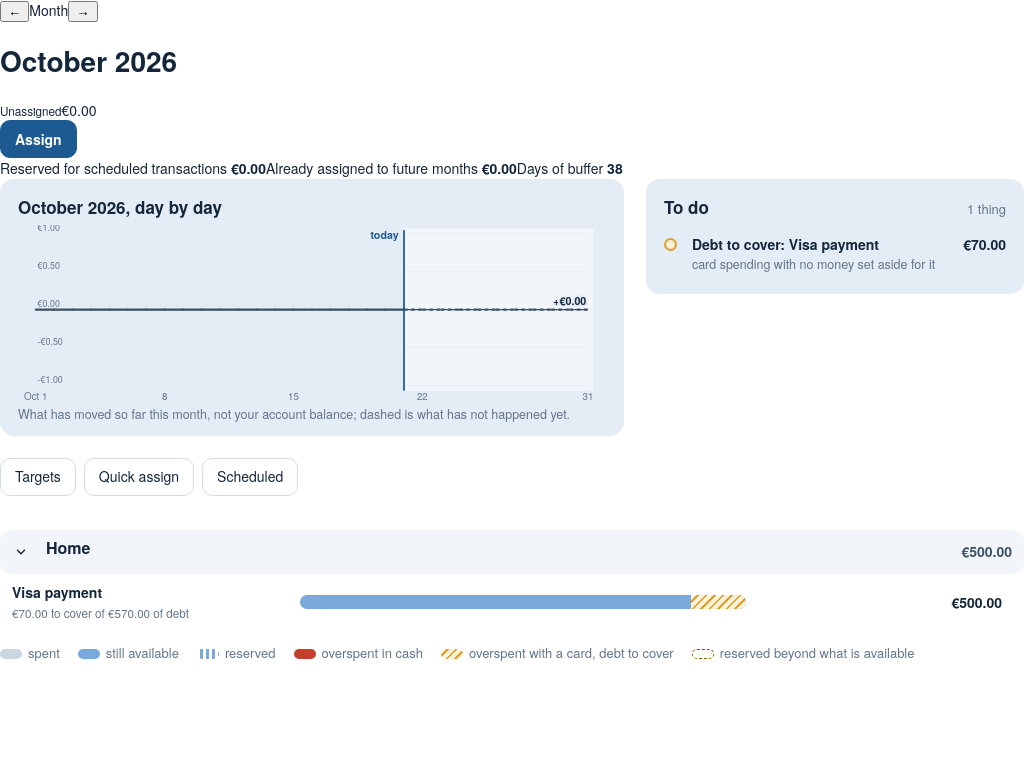
BudgetScreen (#53, #324) › opens a card's own payment category row with its own debt still to cover, and 'Move money here' opens the move-money form (#329)
The image size is (1024, 768).
Expected: the text "Visa payment" is shown, x1=12 y1=582 x2=102 y2=602
Step 1. Click the button "Visa payment €70.00 to cover of €570.00 of debt €500.00" → [512, 602], box x1=0 y1=574 x2=1023 y2=630
(page scrolled)
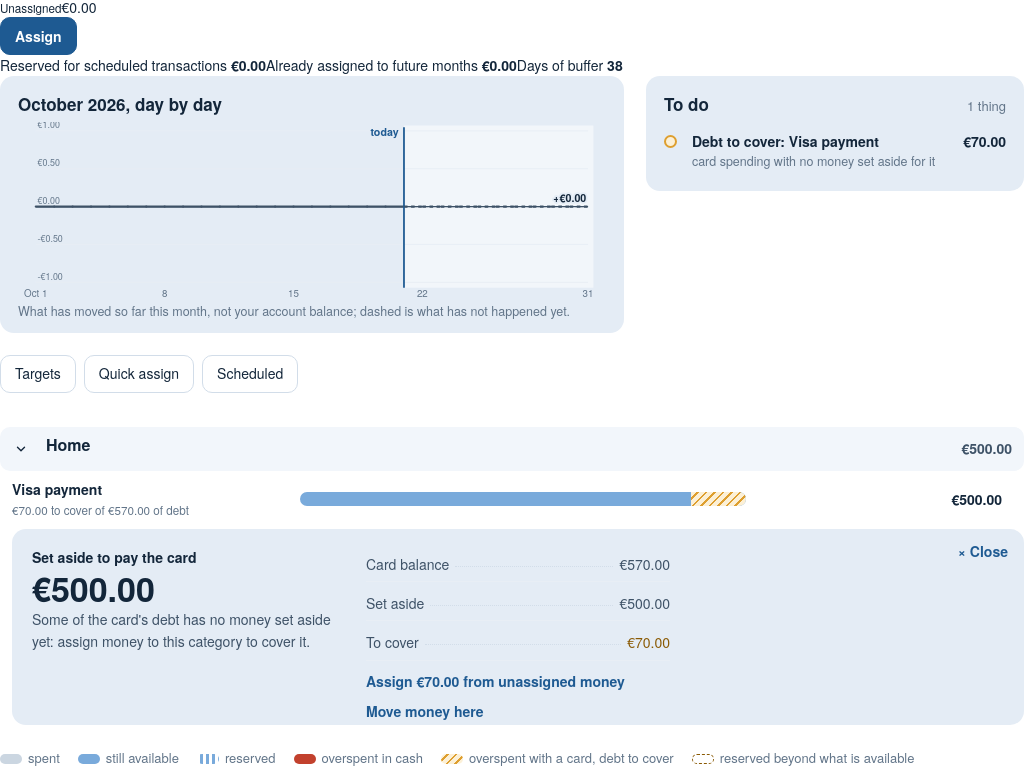
Expected: the text "To cover" is shown, x1=366 y1=632 x2=419 y2=653
Step 2. Click the button "Move money here" → [425, 711], box x1=366 y1=701 x2=484 y2=721
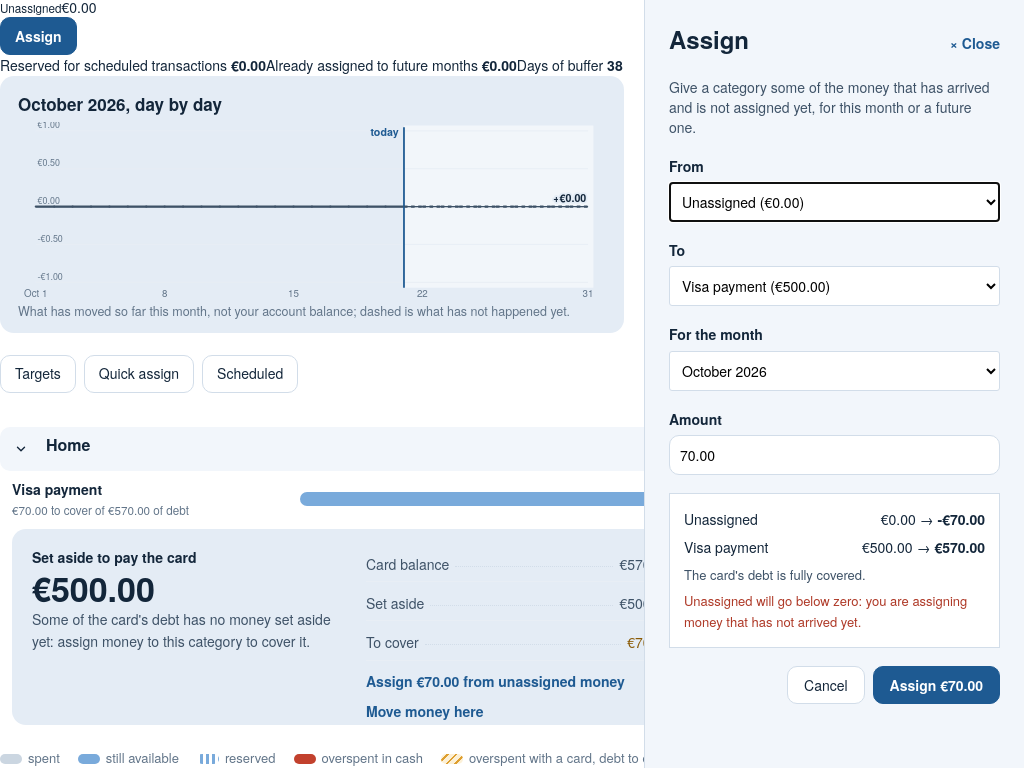
Expected: the dropdown labelled "To" shows "Visa payment (€500.00)", x1=669 y1=266 x2=1000 y2=306
